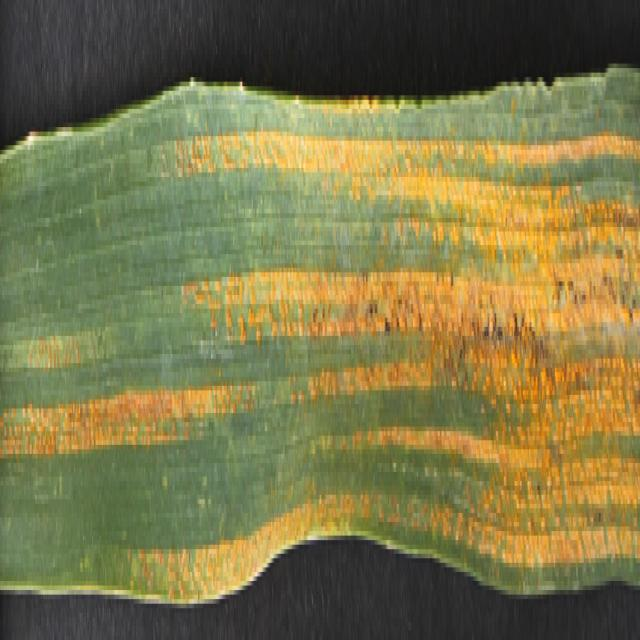leaf rust: (1, 104, 640, 576)
